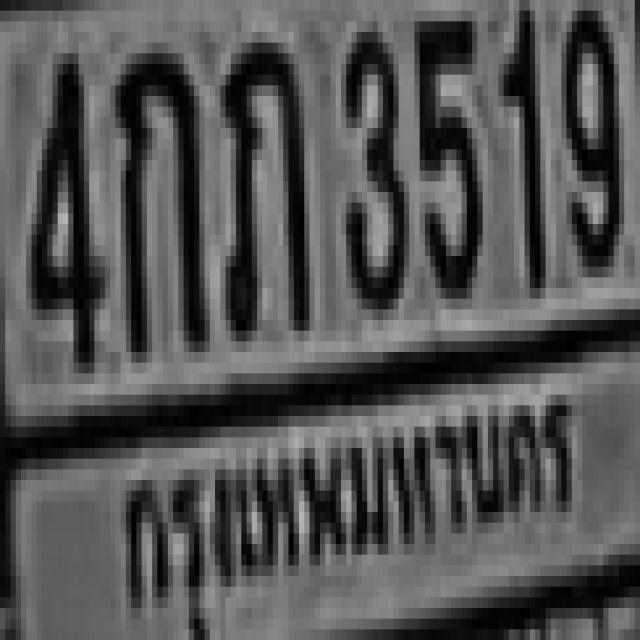1: (498, 0, 534, 277)
10GorGai: (110, 37, 205, 347)
3: (341, 21, 404, 299)
4: (26, 42, 100, 362)
41PhorSamPhao: (220, 32, 304, 331)
5: (410, 11, 478, 288)
9: (561, 0, 619, 267)
Bangkok: (109, 362, 587, 640)
